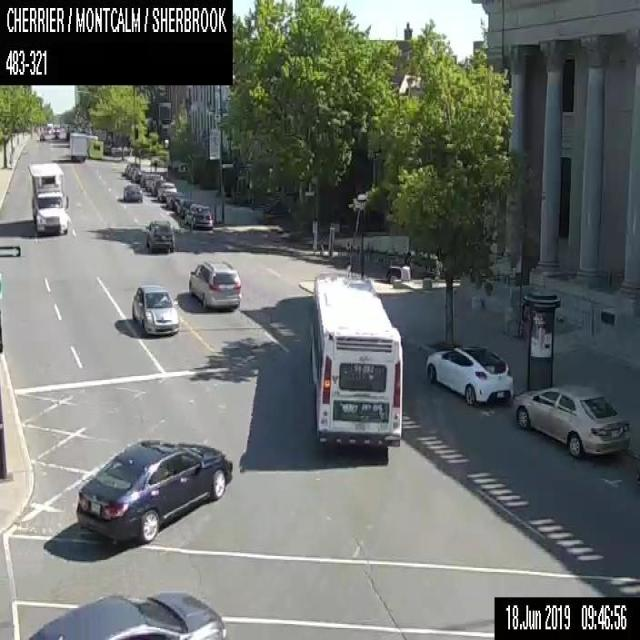bus: (306, 272, 403, 447)
vehicle: (74, 436, 232, 544), (27, 588, 225, 639), (514, 385, 629, 459), (426, 344, 512, 404), (26, 160, 69, 236), (188, 260, 242, 310), (131, 284, 178, 333), (386, 247, 444, 280), (145, 219, 174, 251), (184, 203, 213, 229), (67, 132, 86, 161), (174, 196, 193, 216), (157, 181, 176, 201), (123, 183, 142, 201), (165, 190, 183, 209), (86, 138, 103, 158)
